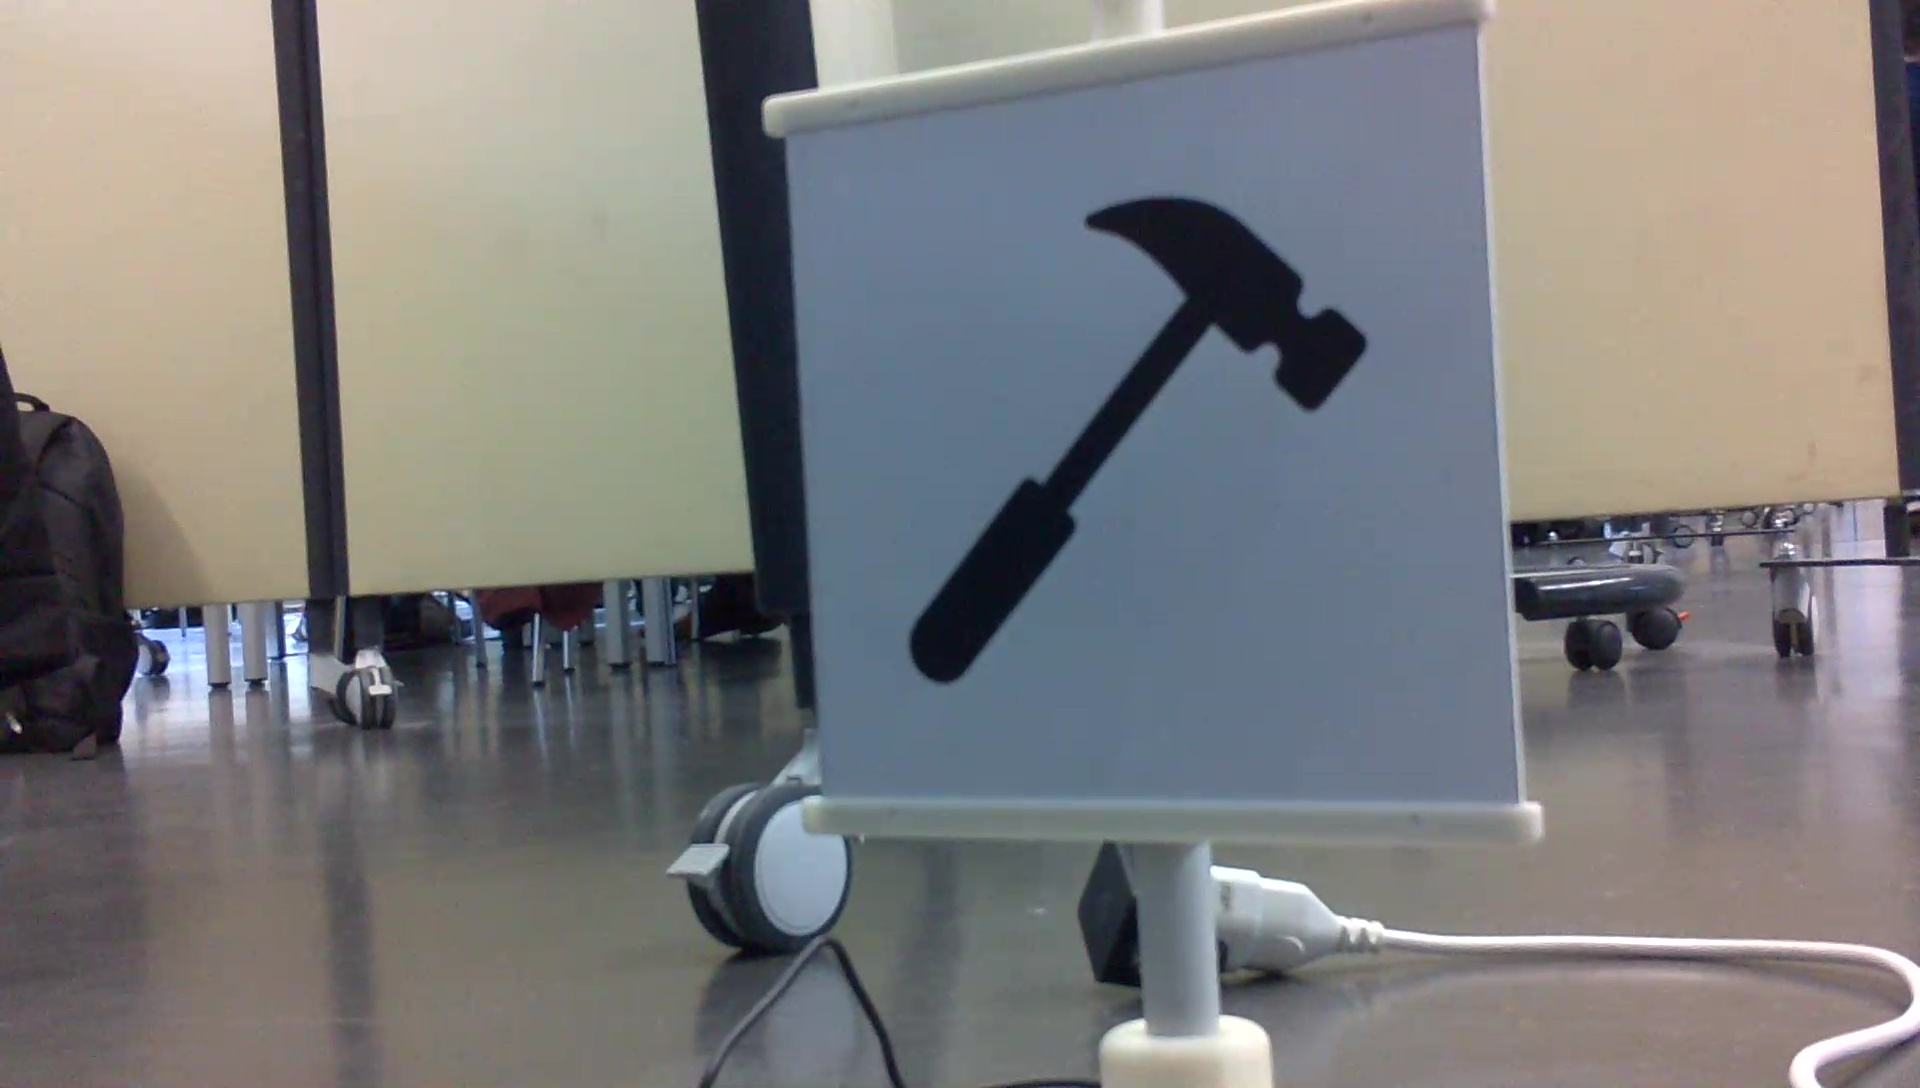hammer: (899, 189, 1381, 692)
